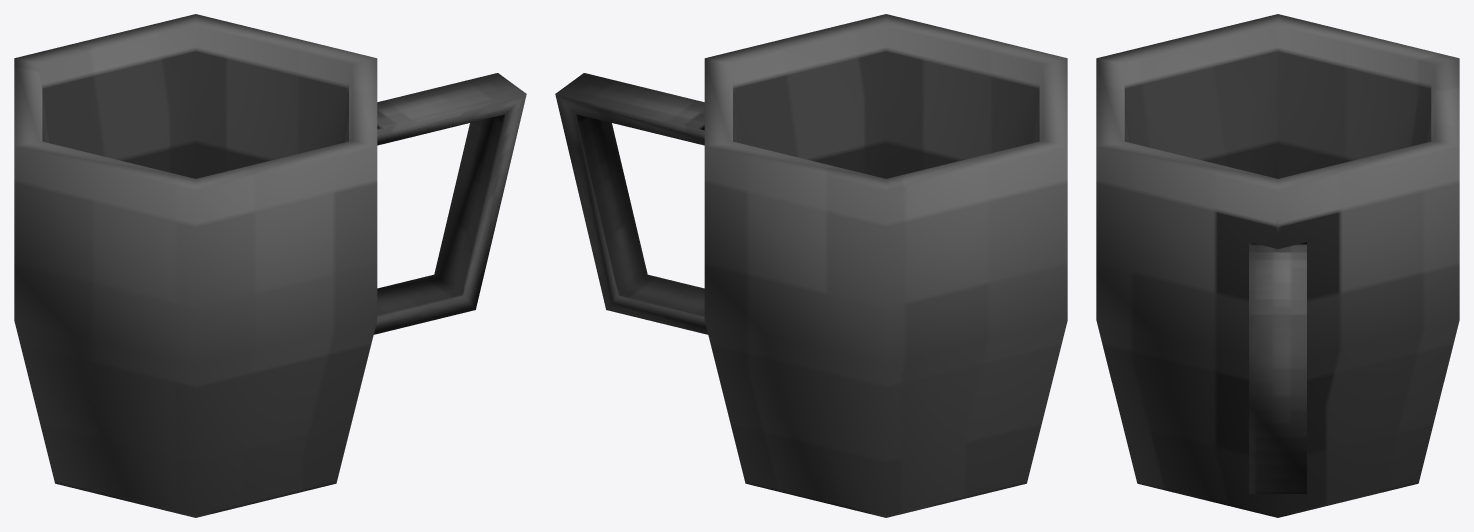
Rendered from Desktop_Clutter_Mug.fbx.
3 views of the same model, side by side, from view 1: azimuth 30°, elevation 25°; view 2: azimuth 150°, elevation 25°; view 3: azimuth 270°, elevation 25° (orthographic).
Parts seen in each view (by area): view 1: Mug.001; view 2: Mug.001; view 3: Mug.001.
Part boxes in pixels (<box>): Mug.001: <box>14,14,526,517</box>; Mug.001: <box>555,14,1067,517</box>; Mug.001: <box>1096,14,1459,517</box>.
Bounding box in the file's own units: 26.69 × 17.75 × 16.85.
